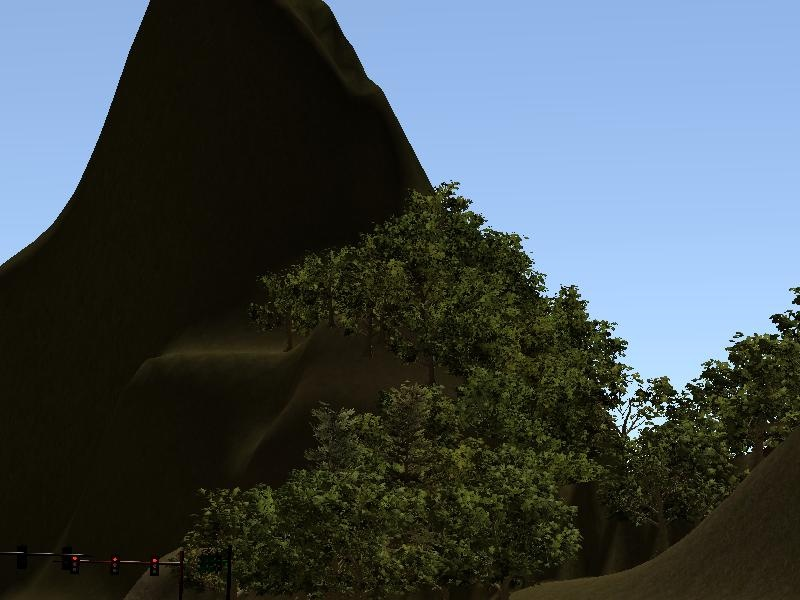Red: (150, 555, 159, 577), (111, 554, 120, 576), (70, 555, 79, 575)
